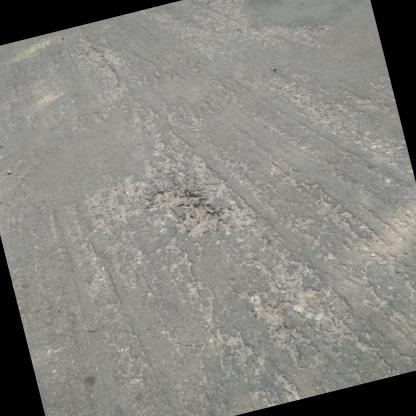pothole: (142, 174, 226, 249)
